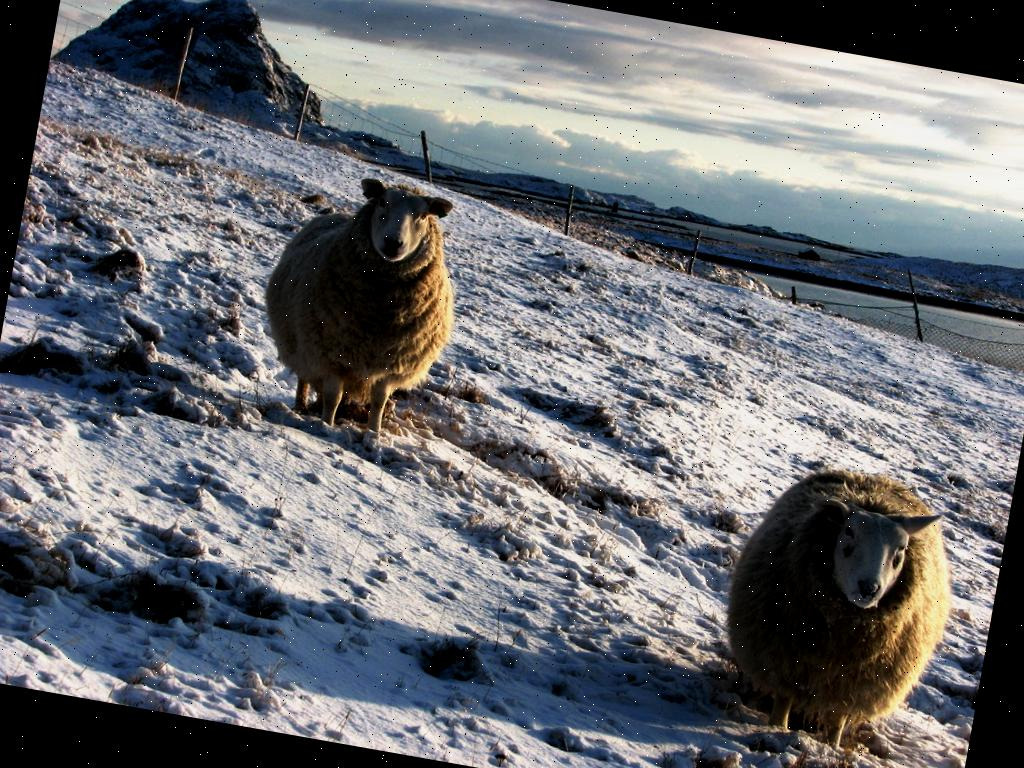Sheep: (708, 442, 964, 750), (244, 163, 478, 446)
